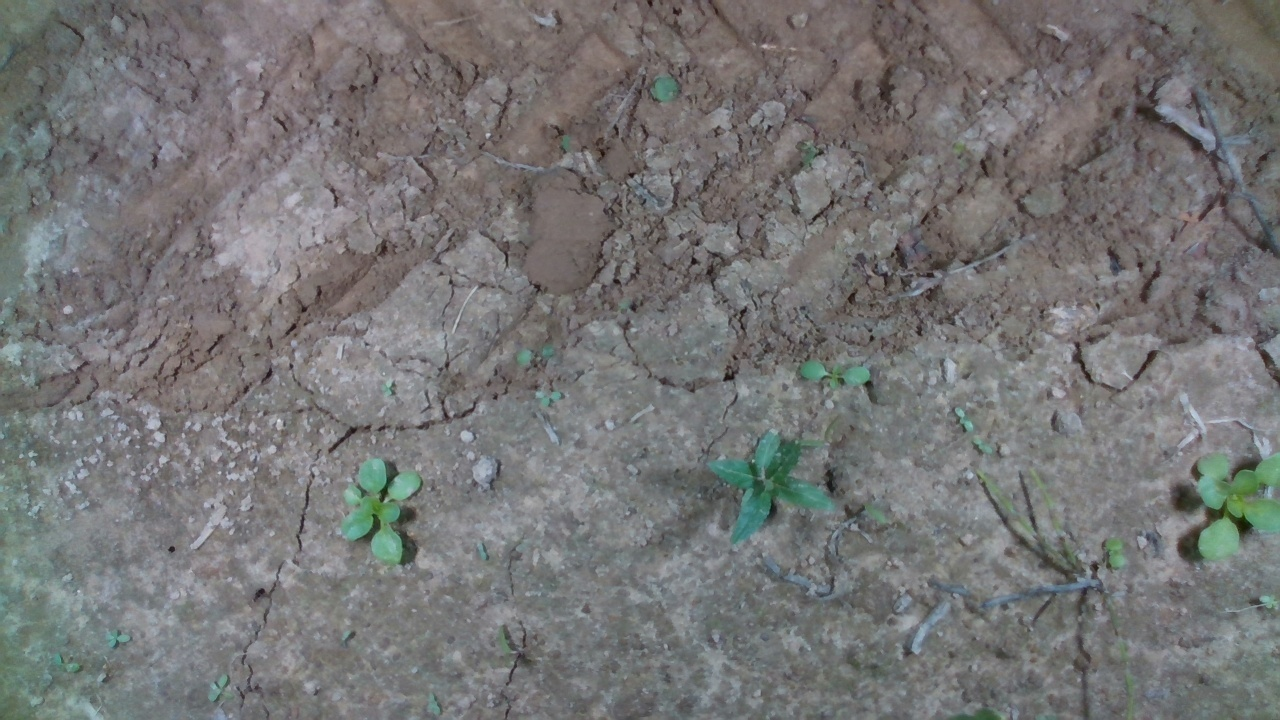weed: (799, 358, 872, 392), (530, 381, 565, 411), (206, 671, 236, 703), (1103, 535, 1128, 571), (952, 403, 975, 432), (52, 652, 82, 674), (103, 627, 132, 649), (971, 435, 993, 457)
